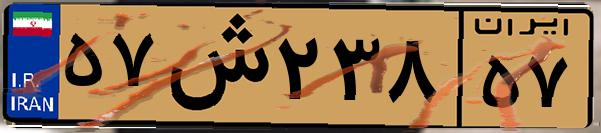2: (270, 28, 330, 110)
3: (330, 28, 385, 110)
5: (57, 26, 110, 100), (475, 38, 525, 113)
7: (525, 38, 570, 115), (110, 28, 158, 98)
8: (385, 28, 445, 110)
ش: (158, 12, 270, 120)
